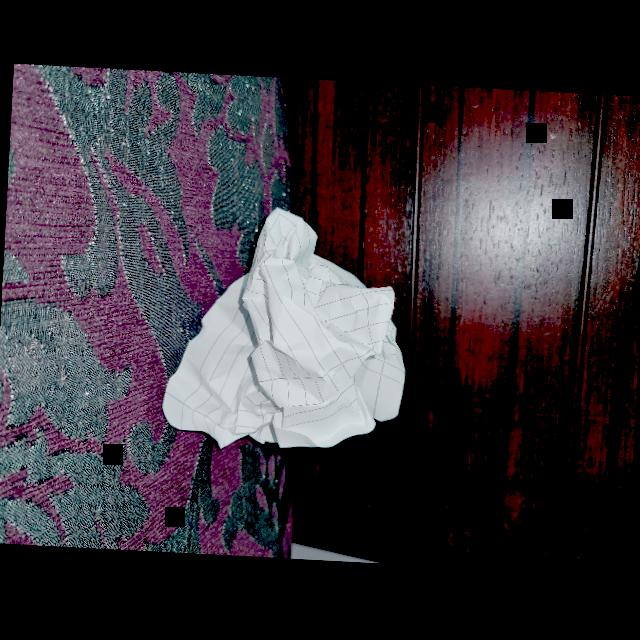scrap_paper: (157, 195, 410, 458)
